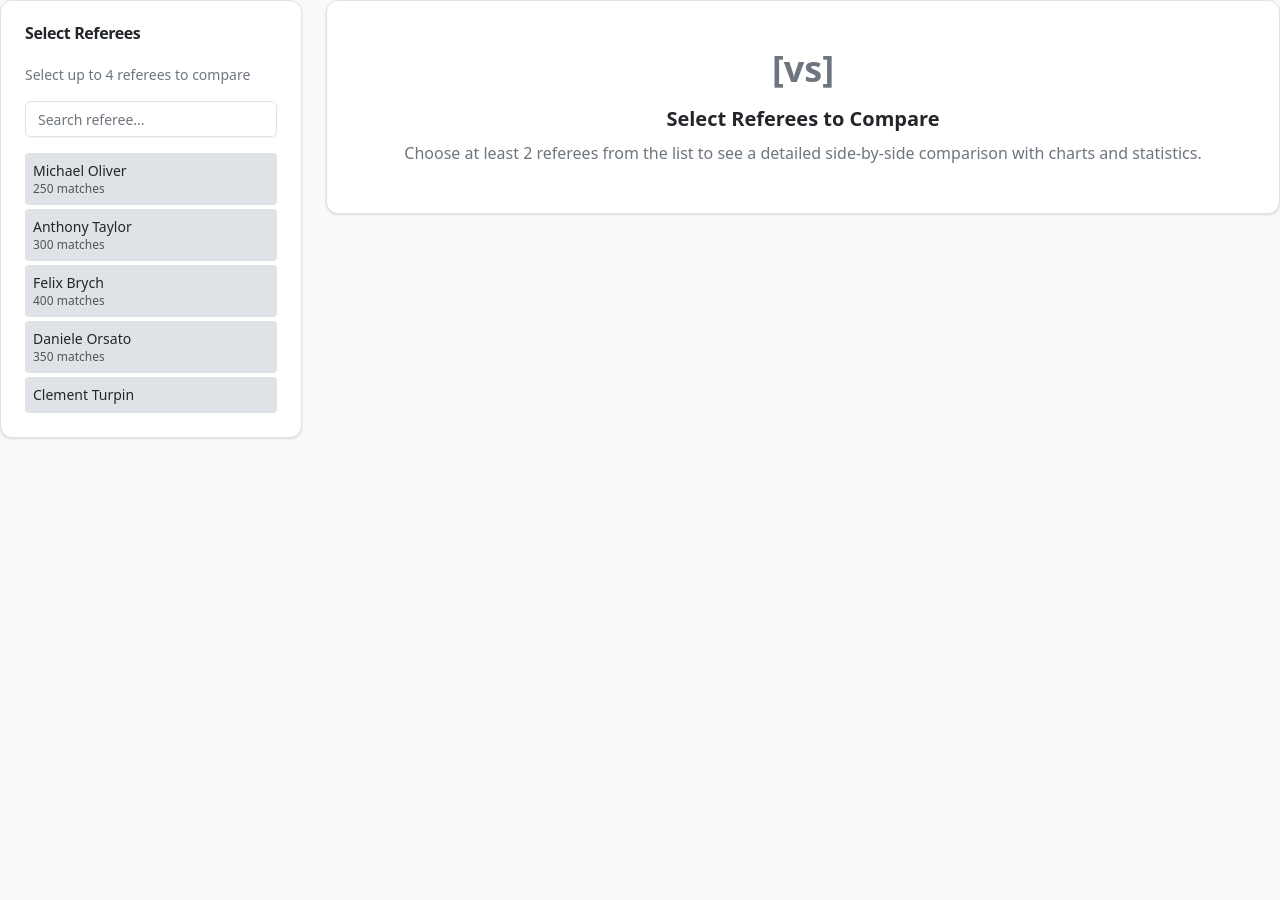
Test: RefereeComparisonClient › Betting Insights › displays betting insights section
Select two referees
Click the button "Michael Oliver 250 matches".
click(151, 179)  # box [25,153,277,205]
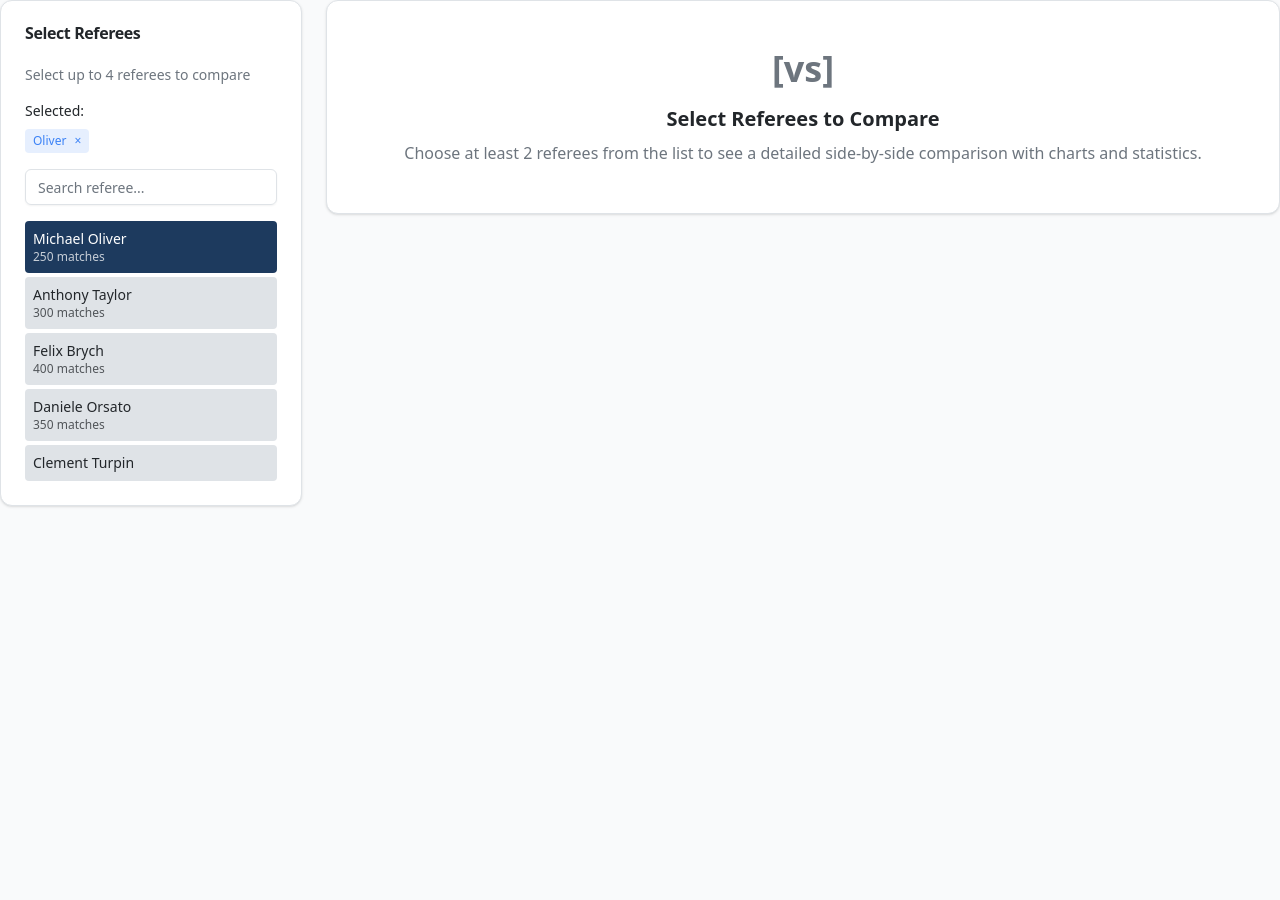
Click the button "Anthony Taylor 300 matches".
click(151, 303)  # box [25,277,277,329]
(page scrolled)
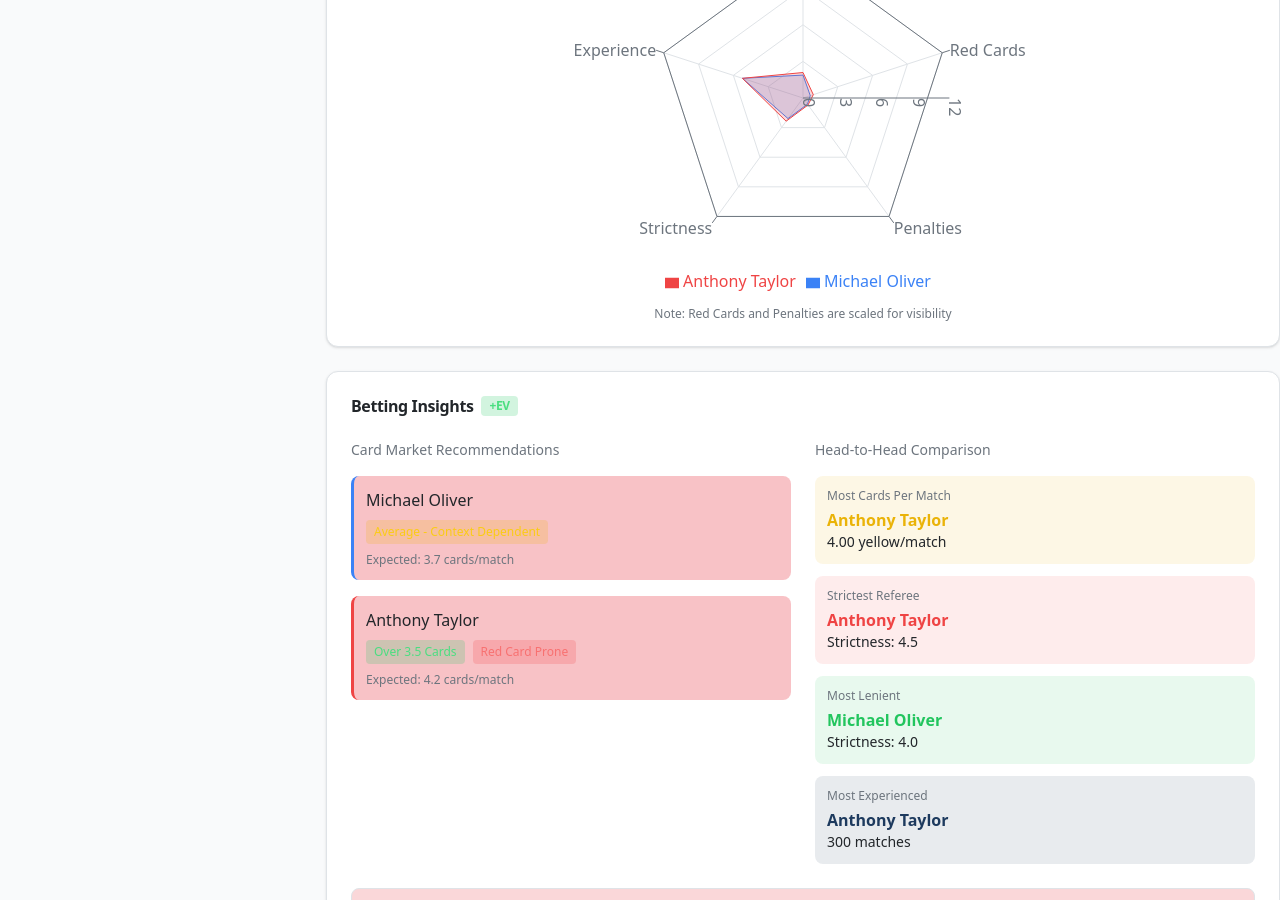
Now the text "Betting Insights" is shown, box [351,395,474,417]
Now the heading "Card Market Recommendations" is shown, box [351,440,559,459]
Now the heading "Head-to-Head Comparison" is shown, box [815,440,991,459]
